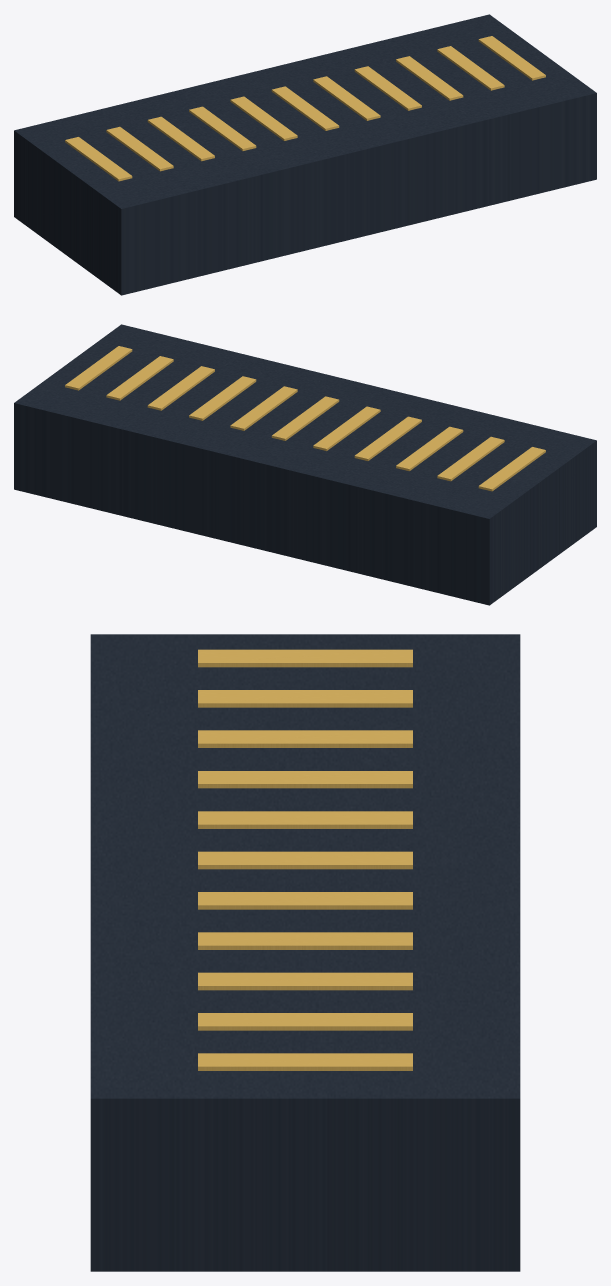
The model's file is 196_L113_RedundantPort_1.obj.
The picture shows the model from 3 angles, top to bottom: view 1: azimuth 30°, elevation 25°; view 2: azimuth 150°, elevation 25°; view 3: azimuth 270°, elevation 25°; orthographic projection. The views are drawn at different scales.
Parts seen in each view (by area): view 1: Part0000__PSMAT__Connector_Polymer, Part0006__PSMAT__Gold_ENIG, Part0002__PSMAT__Gold_ENIG, Part0003__PSMAT__Gold_ENIG, Part0008__PSMAT__Gold_ENIG, Part0004__PSMAT__Gold_ENIG, Part0005__PSMAT__Gold_ENIG, Part0007__PSMAT__Gold_ENIG, Part0010__PSMAT__Gold_ENIG, Part0001__PSMAT__Gold_ENIG, Part0009__PSMAT__Gold_ENIG, Part0011__PSMAT__Gold_ENIG; view 2: Part0000__PSMAT__Connector_Polymer, Part0006__PSMAT__Gold_ENIG, Part0002__PSMAT__Gold_ENIG, Part0003__PSMAT__Gold_ENIG, Part0008__PSMAT__Gold_ENIG, Part0004__PSMAT__Gold_ENIG, Part0005__PSMAT__Gold_ENIG, Part0007__PSMAT__Gold_ENIG, Part0010__PSMAT__Gold_ENIG, Part0001__PSMAT__Gold_ENIG, Part0009__PSMAT__Gold_ENIG, Part0011__PSMAT__Gold_ENIG; view 3: Part0000__PSMAT__Connector_Polymer, Part0001__PSMAT__Gold_ENIG, Part0006__PSMAT__Gold_ENIG, Part0009__PSMAT__Gold_ENIG, Part0002__PSMAT__Gold_ENIG, Part0003__PSMAT__Gold_ENIG, Part0004__PSMAT__Gold_ENIG, Part0005__PSMAT__Gold_ENIG, Part0007__PSMAT__Gold_ENIG, Part0008__PSMAT__Gold_ENIG, Part0010__PSMAT__Gold_ENIG, Part0011__PSMAT__Gold_ENIG.
Part boxes in pixels (x1=…): Part0000__PSMAT__Connector_Polymer: x1=14, y1=14, x2=596, y2=295; Part0006__PSMAT__Gold_ENIG: x1=271, y1=86, x2=339, y2=130; Part0002__PSMAT__Gold_ENIG: x1=106, y1=126, x2=173, y2=171; Part0003__PSMAT__Gold_ENIG: x1=147, y1=116, x2=214, y2=161; Part0008__PSMAT__Gold_ENIG: x1=354, y1=66, x2=421, y2=110; Part0004__PSMAT__Gold_ENIG: x1=189, y1=106, x2=256, y2=150; Part0005__PSMAT__Gold_ENIG: x1=230, y1=96, x2=297, y2=140; Part0007__PSMAT__Gold_ENIG: x1=313, y1=76, x2=380, y2=120; Part0010__PSMAT__Gold_ENIG: x1=437, y1=46, x2=504, y2=90; Part0001__PSMAT__Gold_ENIG: x1=65, y1=137, x2=132, y2=181; Part0009__PSMAT__Gold_ENIG: x1=396, y1=56, x2=463, y2=100; Part0011__PSMAT__Gold_ENIG: x1=478, y1=36, x2=545, y2=80; Part0000__PSMAT__Connector_Polymer: x1=14, y1=324, x2=596, y2=605; Part0006__PSMAT__Gold_ENIG: x1=271, y1=396, x2=339, y2=440; Part0002__PSMAT__Gold_ENIG: x1=437, y1=436, x2=504, y2=481; Part0003__PSMAT__Gold_ENIG: x1=396, y1=426, x2=463, y2=471; Part0008__PSMAT__Gold_ENIG: x1=189, y1=376, x2=256, y2=420; Part0004__PSMAT__Gold_ENIG: x1=354, y1=416, x2=421, y2=460; Part0005__PSMAT__Gold_ENIG: x1=313, y1=406, x2=380, y2=450; Part0007__PSMAT__Gold_ENIG: x1=230, y1=386, x2=297, y2=430; Part0010__PSMAT__Gold_ENIG: x1=106, y1=356, x2=173, y2=400; Part0001__PSMAT__Gold_ENIG: x1=478, y1=447, x2=545, y2=491; Part0009__PSMAT__Gold_ENIG: x1=147, y1=366, x2=214, y2=410; Part0011__PSMAT__Gold_ENIG: x1=65, y1=346, x2=132, y2=390; Part0000__PSMAT__Connector_Polymer: x1=90, y1=634, x2=520, y2=1271; Part0001__PSMAT__Gold_ENIG: x1=198, y1=649, x2=412, y2=667; Part0006__PSMAT__Gold_ENIG: x1=198, y1=851, x2=412, y2=869; Part0009__PSMAT__Gold_ENIG: x1=198, y1=972, x2=412, y2=990; Part0002__PSMAT__Gold_ENIG: x1=198, y1=690, x2=412, y2=707; Part0003__PSMAT__Gold_ENIG: x1=198, y1=730, x2=412, y2=747; Part0004__PSMAT__Gold_ENIG: x1=198, y1=771, x2=412, y2=788; Part0005__PSMAT__Gold_ENIG: x1=198, y1=811, x2=412, y2=828; Part0007__PSMAT__Gold_ENIG: x1=198, y1=892, x2=412, y2=909; Part0008__PSMAT__Gold_ENIG: x1=198, y1=932, x2=412, y2=949; Part0010__PSMAT__Gold_ENIG: x1=198, y1=1013, x2=412, y2=1030; Part0011__PSMAT__Gold_ENIG: x1=198, y1=1053, x2=412, y2=1070.
Size of the model in its own units: 0.023 by 0.00419 by 0.009.
Materials: 2 (2 with a texture image).
